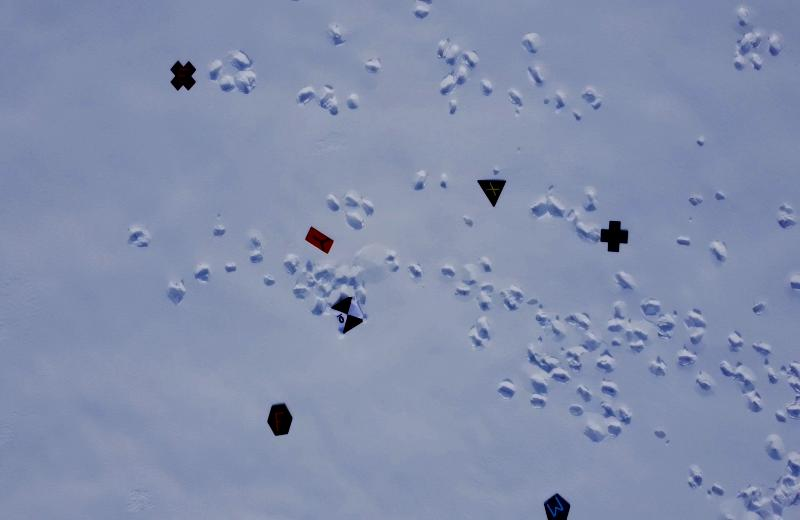Cross: (600, 219, 631, 253), (170, 59, 198, 94)
Hexagon: (267, 402, 294, 438)
Pentagon: (544, 492, 573, 520)
Rectangle: (306, 224, 334, 256)
Triangle: (478, 175, 508, 209)
